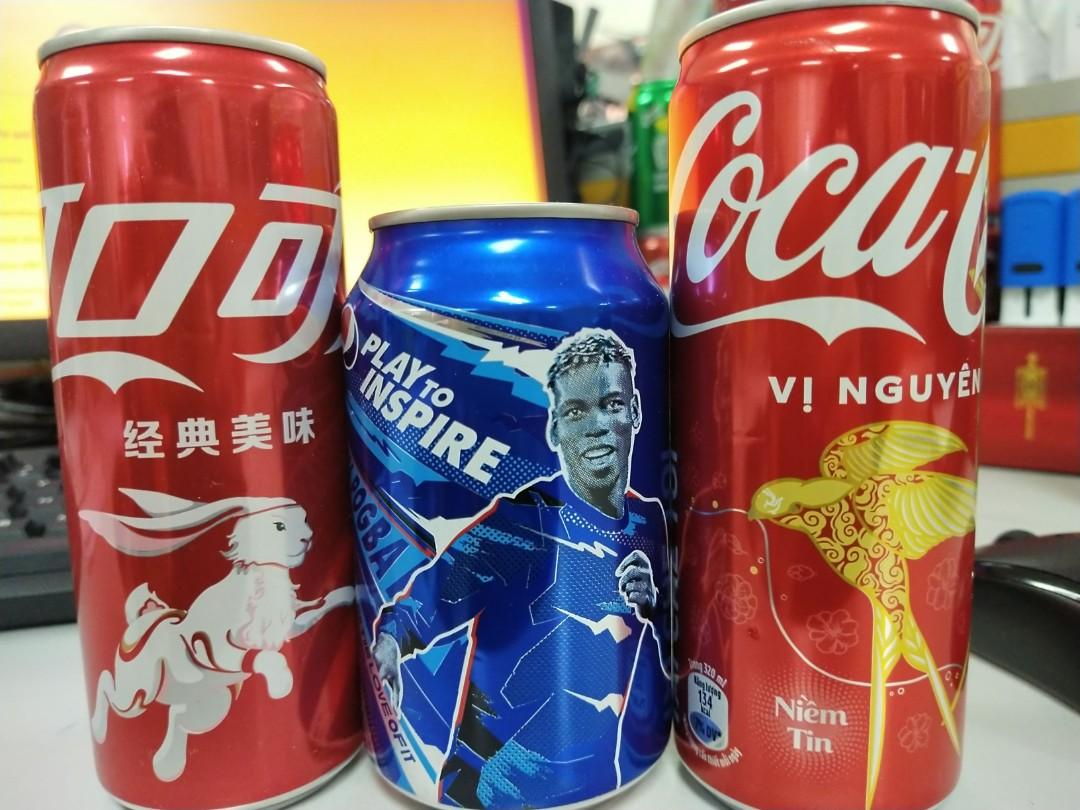metal: (660, 0, 997, 810), (33, 29, 363, 810), (350, 197, 674, 806)
